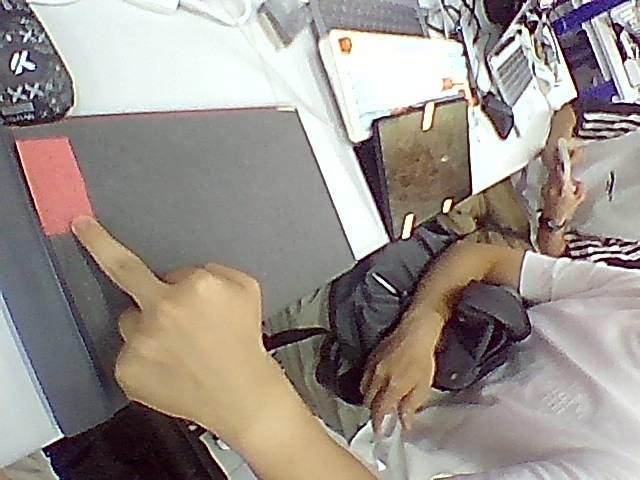card: (18, 139, 91, 234)
